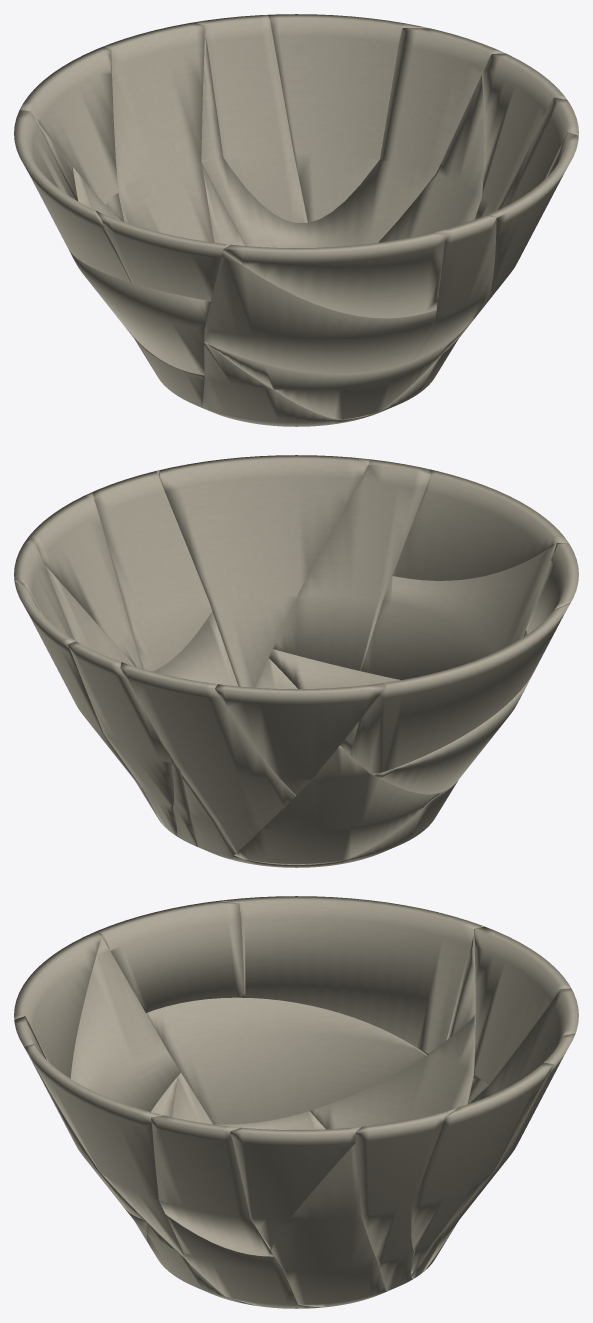
The model's file is fracture-solids.glb.
The picture shows the model from 3 angles, top to bottom: view 1: azimuth 30°, elevation 25°; view 2: azimuth 150°, elevation 25°; view 3: azimuth 270°, elevation 25°; orthographic projection.
Parts seen in each view (by area): view 1: fragment-002, fragment-015, fragment-016, fragment-008, fragment-014, fragment-007, fragment-017, fragment-018, fragment-001, fragment-020, fragment-019, fragment-010 (+10 smaller); view 2: fragment-000, fragment-003, fragment-008, fragment-012, fragment-016, fragment-009, fragment-007, fragment-005, fragment-017, fragment-018, fragment-014, fragment-013 (+8 smaller); view 3: fragment-009, fragment-001, fragment-010, fragment-019, fragment-008, fragment-012, fragment-015, fragment-002, fragment-000, fragment-017, fragment-018, fragment-005 (+10 smaller).
Boxes of the visible parts, bbox=[...] form: fragment-002: bbox=[201, 28, 505, 247]; fragment-015: bbox=[268, 14, 428, 222]; fragment-016: bbox=[103, 22, 214, 242]; fragment-008: bbox=[204, 252, 436, 374]; fragment-014: bbox=[194, 15, 307, 222]; fragment-007: bbox=[223, 232, 445, 318]; fragment-017: bbox=[20, 46, 124, 221]; fragment-018: bbox=[474, 53, 566, 219]; fragment-001: bbox=[68, 249, 210, 375]; fragment-020: bbox=[208, 321, 471, 419]; fragment-019: bbox=[378, 75, 484, 242]; fragment-010: bbox=[96, 211, 230, 300]; fragment-000: bbox=[158, 455, 368, 687]; fragment-003: bbox=[273, 459, 430, 671]; fragment-008: bbox=[361, 544, 556, 679]; fragment-012: bbox=[92, 470, 212, 671]; fragment-016: bbox=[120, 662, 295, 852]; fragment-009: bbox=[350, 603, 570, 774]; fragment-007: bbox=[392, 469, 568, 580]; fragment-005: bbox=[234, 746, 439, 864]; fragment-017: bbox=[215, 683, 384, 795]; fragment-018: bbox=[28, 492, 141, 668]; fragment-014: bbox=[68, 641, 176, 835]; fragment-013: bbox=[152, 611, 237, 857]; fragment-009: bbox=[218, 896, 483, 1054]; fragment-001: bbox=[146, 997, 426, 1124]; fragment-010: bbox=[97, 901, 244, 1012]; fragment-019: bbox=[270, 1142, 389, 1307]; fragment-008: bbox=[70, 936, 180, 1111]; fragment-012: bbox=[151, 1115, 273, 1256]; fragment-015: bbox=[411, 1062, 553, 1274]; fragment-002: bbox=[355, 1047, 556, 1290]; fragment-000: bbox=[24, 1044, 185, 1258]; fragment-017: bbox=[467, 926, 570, 1103]; fragment-018: bbox=[230, 1126, 361, 1248]; fragment-005: bbox=[310, 1016, 475, 1129].
Bounding box in the file's own units: 0.15 × 0.071 × 0.15.
Materials: 1 (1 with a texture image).
